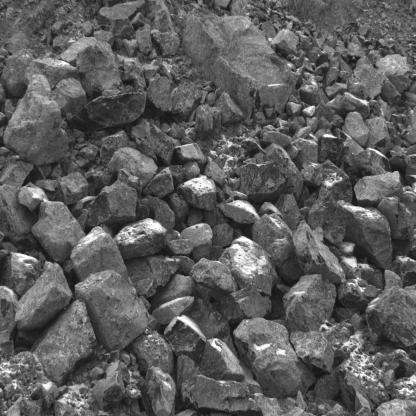stone: (185, 10, 296, 114), (232, 317, 315, 395), (74, 269, 149, 351), (31, 300, 100, 384), (2, 75, 66, 165), (13, 262, 73, 331), (338, 200, 393, 269), (71, 226, 133, 286), (252, 213, 304, 283), (70, 86, 147, 133), (291, 221, 346, 284), (31, 201, 86, 264), (220, 237, 277, 296), (366, 285, 416, 349), (283, 273, 336, 332), (182, 374, 260, 414), (88, 179, 137, 232), (213, 284, 272, 325), (113, 217, 167, 259), (309, 188, 345, 248), (198, 338, 245, 383), (240, 160, 289, 203), (190, 257, 238, 300), (164, 315, 206, 364), (132, 122, 177, 165), (304, 162, 352, 202), (109, 147, 157, 187), (289, 331, 334, 373), (381, 186, 416, 240), (346, 63, 398, 99), (23, 57, 81, 89), (354, 170, 403, 206), (343, 148, 392, 184), (0, 49, 34, 98), (92, 361, 125, 411), (146, 366, 178, 416), (176, 356, 207, 407), (178, 175, 216, 212), (51, 77, 87, 114), (375, 57, 413, 92), (141, 196, 175, 234), (152, 295, 195, 325), (171, 83, 202, 123), (145, 255, 182, 287), (101, 130, 132, 168), (316, 134, 349, 167), (180, 223, 214, 255), (115, 54, 146, 88), (219, 199, 260, 224), (57, 172, 89, 204), (143, 168, 175, 199), (342, 112, 369, 148), (365, 117, 390, 155), (147, 76, 173, 112), (19, 182, 50, 212), (0, 161, 34, 188), (218, 93, 245, 125), (174, 143, 207, 168), (341, 92, 370, 119), (153, 32, 181, 57), (299, 77, 321, 106), (195, 105, 214, 138), (205, 161, 227, 188), (270, 32, 300, 51), (109, 17, 134, 39), (136, 24, 153, 55), (167, 239, 193, 255), (313, 103, 336, 121), (94, 30, 115, 48)
